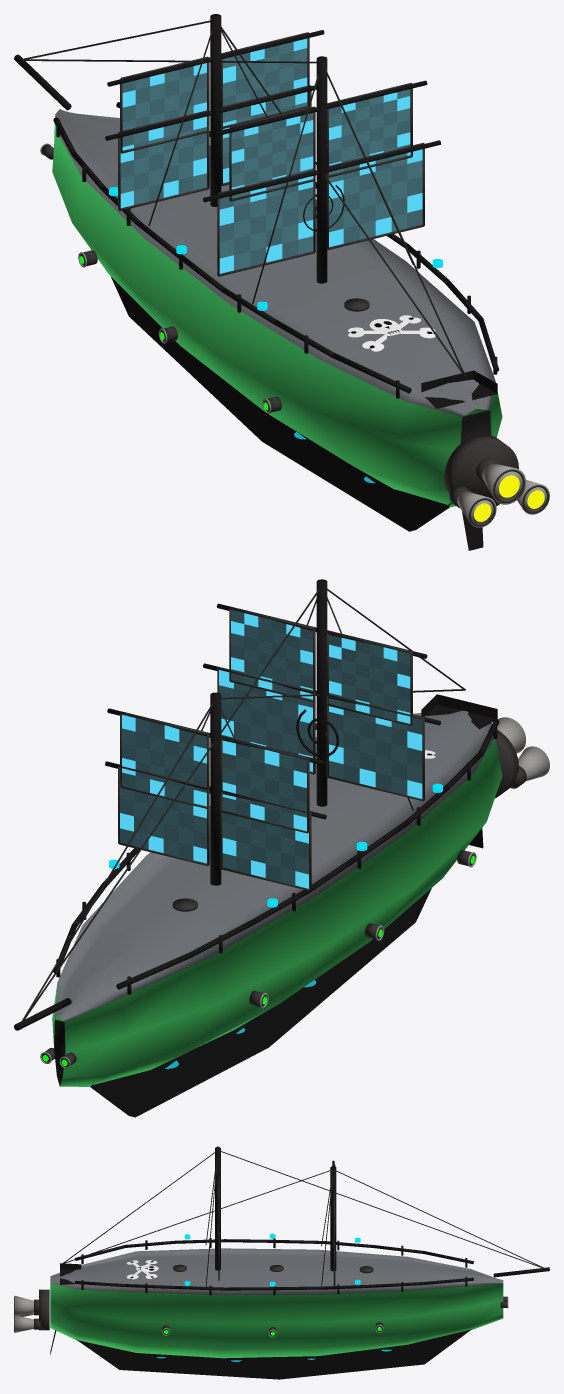
The model's file is Ship_Pirate_1.glb.
3 views of the same model, one above another, from view 1: azimuth 30°, elevation 25°; view 2: azimuth 150°, elevation 25°; view 3: azimuth 270°, elevation 25° (orthographic). The views are drawn at different scales.
Parts seen in each view (by area): view 1: Hull_MetalSailingShipBody, SolarPanelSail_Main_01_RigidHeritageArray, SolarPanelSail_Main_02_RigidHeritageArray, Keel_DeepSpaceSailingKeel, SolarPanelSail_Fore_02_RigidHeritageArray, SolarPanelSail_Fore_01_RigidHeritageArray, Mast_Main_DarkMetalHeritageSpar, EngineDeck_AftTransomArmoredMount, Mast_Fore_DarkMetalHeritageSpar, Yard_Main_01_SolarPanelCrossSpar, SternTransom_LowReinforcedAftDeckCap, Yard_Fore_02_SolarPanelCrossSpar (+7 smaller); view 2: Hull_MetalSailingShipBody, SolarPanelSail_Main_01_RigidHeritageArray, SolarPanelSail_Fore_02_RigidHeritageArray, SolarPanelSail_Main_02_RigidHeritageArray, Keel_DeepSpaceSailingKeel, SolarPanelSail_Fore_01_RigidHeritageArray, Mast_Main_DarkMetalHeritageSpar, Mast_Fore_DarkMetalHeritageSpar, SternTransom_LowReinforcedAftDeckCap, RiggingStay_Main_ForwardTautLine, EngineDeck_AftTransomArmoredMount, RiggingStay_Fore_ForwardTautLine (+1 smaller); view 3: Hull_MetalSailingShipBody, Keel_DeepSpaceSailingKeel, Mast_Main_DarkMetalHeritageSpar, Mast_Fore_DarkMetalHeritageSpar, RiggingStay_Main_ForwardTautLine, EngineDeck_AftTransomArmoredMount, RiggingStay_Fore_AftTautLine, RiggingStay_Fore_ForwardTautLine, EngineBell_CenterUpper_IronRocketNozzle.
Boxes of the visible parts, x1,y1,x2,y2 form: Hull_MetalSailingShipBody: (52,109,502,506); SolarPanelSail_Main_01_RigidHeritageArray: (219,149,422,273); SolarPanelSail_Main_02_RigidHeritageArray: (231,89,410,189); Keel_DeepSpaceSailingKeel: (111,277,452,531); SolarPanelSail_Fore_02_RigidHeritageArray: (122,38,307,130); SolarPanelSail_Fore_01_RigidHeritageArray: (120,92,307,208); Mast_Main_DarkMetalHeritageSpar: (316,56,327,283); EngineDeck_AftTransomArmoredMount: (444,434,518,506); Mast_Fore_DarkMetalHeritageSpar: (210,14,221,206); Yard_Main_01_SolarPanelCrossSpar: (203,140,440,202); SternTransom_LowReinforcedAftDeckCap: (421,370,497,408); Yard_Fore_02_SolarPanelCrossSpar: (107,30,324,86); Hull_MetalSailingShipBody: (52,710,502,1086); SolarPanelSail_Main_01_RigidHeritageArray: (219,670,422,798); SolarPanelSail_Fore_02_RigidHeritageArray: (122,715,306,831); SolarPanelSail_Main_02_RigidHeritageArray: (231,610,410,723); Keel_DeepSpaceSailingKeel: (90,888,431,1117); SolarPanelSail_Fore_01_RigidHeritageArray: (120,787,308,888); Mast_Main_DarkMetalHeritageSpar: (316,579,327,806); Mast_Fore_DarkMetalHeritageSpar: (210,692,221,885); SternTransom_LowReinforcedAftDeckCap: (421,694,497,729); RiggingStay_Main_ForwardTautLine: (23,588,319,1021); EngineDeck_AftTransomArmoredMount: (495,730,518,798); RiggingStay_Fore_ForwardTautLine: (21,702,213,1021); Hull_MetalSailingShipBody: (50,1248,503,1358); Keel_DeepSpaceSailingKeel: (76,1329,471,1379); Mast_Main_DarkMetalHeritageSpar: (215,1147,220,1270); Mast_Fore_DarkMetalHeritageSpar: (330,1166,336,1271); RiggingStay_Main_ForwardTautLine: (220,1151,542,1268); EngineDeck_AftTransomArmoredMount: (39,1289,49,1330); RiggingStay_Fore_AftTautLine: (62,1170,330,1264); RiggingStay_Fore_ForwardTautLine: (336,1170,544,1268); EngineBell_CenterUpper_IronRocketNozzle: (14,1296,33,1315).
Bounding box in the file's own units: 1.92 × 3.29 × 6.94.
